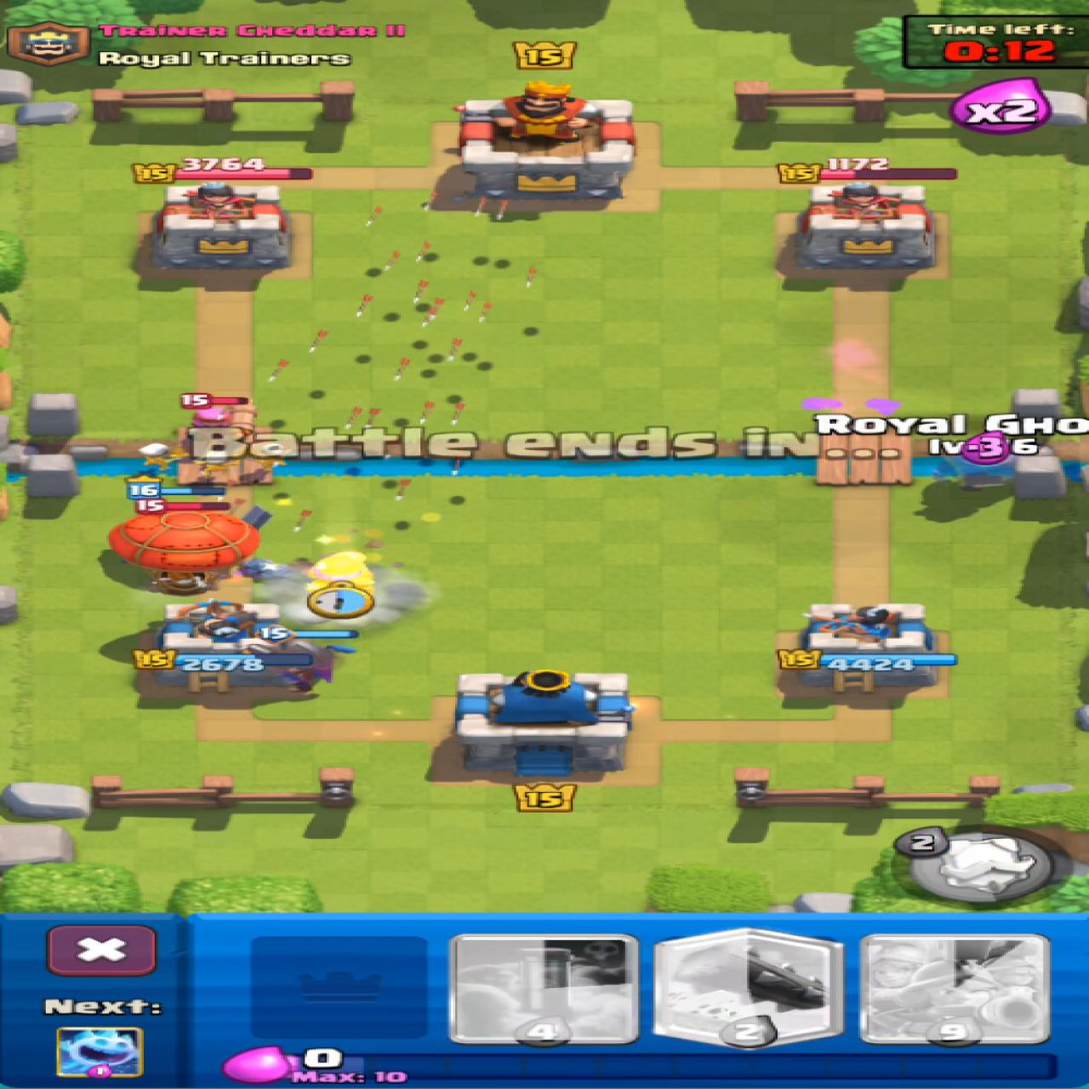Enemy-Balloon: (111, 498, 257, 594)
Enemy-Firecracker: (181, 395, 255, 430)
Enemy-KingTower: (460, 80, 634, 199)
Enemy-PrincessTower: (150, 182, 290, 274), (795, 183, 934, 274)
